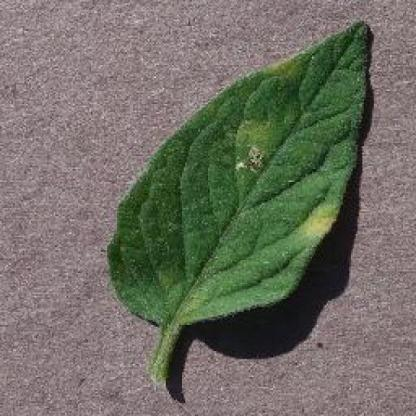Tomato_Leaf_Mold: (105, 21, 373, 324)
